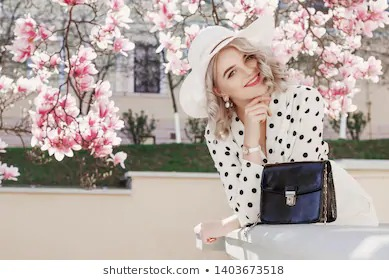S_blouse: (191, 89, 356, 218)
